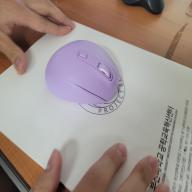mouse: (41, 29, 126, 108)
